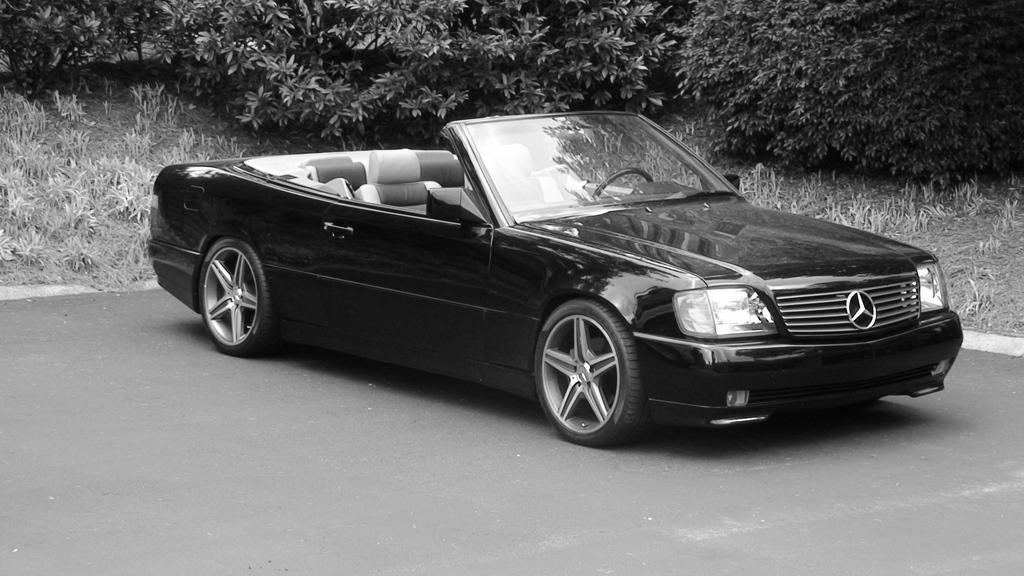car: (151, 112, 964, 447)
